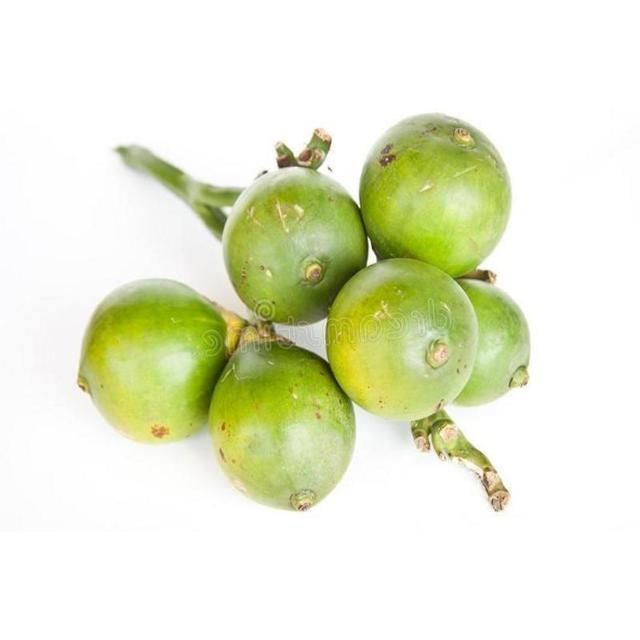good: (207, 336, 355, 512), (77, 278, 235, 442), (326, 260, 480, 422), (360, 112, 510, 278), (222, 156, 366, 326)
